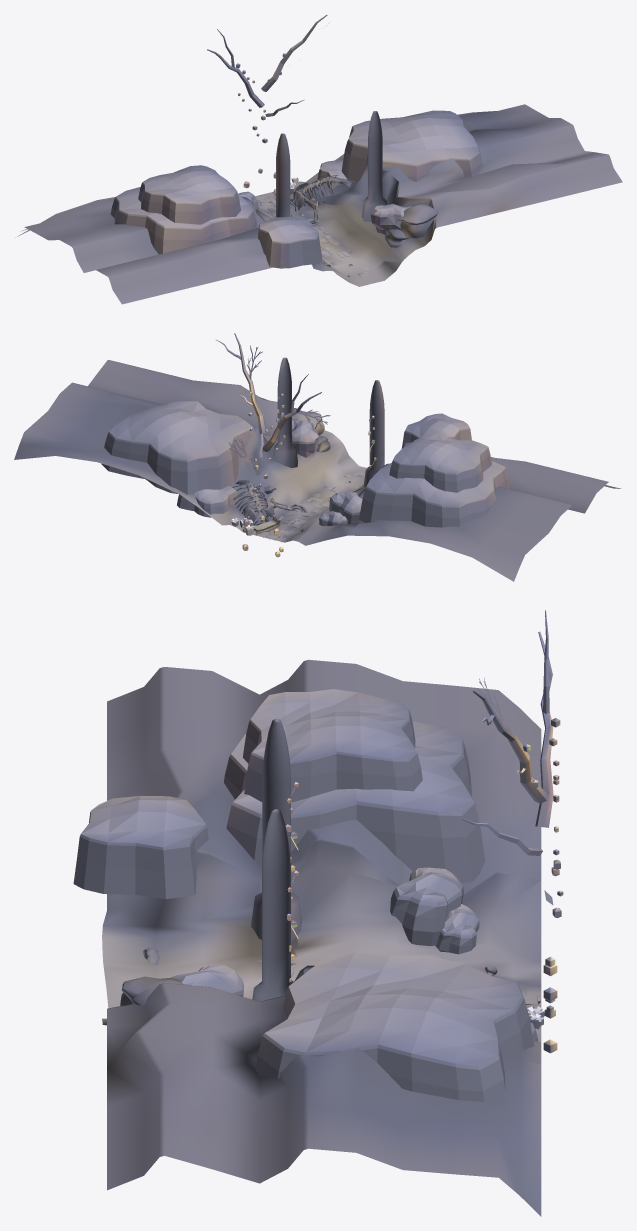
File: Arctic_Luge_Entrance.glb
3 renders of one model, top to bottom at view 1: azimuth 30°, elevation 25°; view 2: azimuth 150°, elevation 25°; view 3: azimuth 270°, elevation 25°, orthographic. The views are drawn at different scales.
Visible parts, largest first — view 1: Arctic_Luge_Entrance.001, Arctic_Luge_MediumIceRock_prop, Arctic_Luge_MediumIceRock_prop (2), Arctic_Luge_MediumIceRock_prop (1), Arctic_Luge_SmallIceRock_prop, Arctic_Luge_SmalRock_prop (2), Arctic_BirchA_branchesBottom_holiday, Arctic_Luge_MediumIceRock_prop (3), Arctic_BirchA_branchesTop_holiday; view 2: Arctic_Luge_Entrance.001, Arctic_Luge_MediumIceRock_prop, Arctic_Luge_MediumIceRock_prop (1), Arctic_Luge_MediumIceRock_prop (2), Arctic_Luge_SmallIceRock_prop, Arctic_Luge_MediumIceRock_prop (3), Arctic_BirchA_branchesBottom_holiday, Arctic_Luge_SmalRock_prop (2), Arctic_Luge_SmalRock_prop, Arctic_BirchA_branchesTop_holiday; view 3: Arctic_Luge_Entrance.001, Arctic_Luge_MediumIceRock_prop, Arctic_Luge_MediumIceRock_prop (1), Arctic_Luge_MediumIceRock_prop (2), Arctic_Luge_SmallIceRock_prop, Arctic_Luge_SmalRock_prop, Arctic_BirchA_branchesBottom_holiday, Arctic_Luge_SmalRock_prop (1), Arctic_BirchA_branchesTop_holiday, Arctic_Luge_SmalRock_prop (2).
Boxes of the visible parts, x1,y1,x2,y2 form: Arctic_Luge_Entrance.001: (15,104,622,304); Arctic_Luge_MediumIceRock_prop: (341,110,482,182); Arctic_Luge_MediumIceRock_prop (2): (138,165,241,224); Arctic_Luge_MediumIceRock_prop (1): (110,187,257,254); Arctic_Luge_SmallIceRock_prop: (258,216,321,268); Arctic_Luge_SmalRock_prop (2): (370,204,412,235); Arctic_BirchA_branchesBottom_holiday: (207,29,304,116); Arctic_Luge_MediumIceRock_prop (3): (317,160,346,188); Arctic_BirchA_branchesTop_holiday: (261,15,327,91); Arctic_Luge_Entrance.001: (14,357,621,581); Arctic_Luge_MediumIceRock_prop: (101,401,254,494); Arctic_Luge_MediumIceRock_prop (1): (359,461,509,527); Arctic_Luge_MediumIceRock_prop (2): (389,433,491,492); Arctic_Luge_SmallIceRock_prop: (402,413,471,446); Arctic_Luge_MediumIceRock_prop (3): (177,486,238,517); Arctic_BirchA_branchesBottom_holiday: (228,374,330,494); Arctic_Luge_SmalRock_prop (2): (292,420,318,457); Arctic_Luge_SmalRock_prop: (329,492,362,523); Arctic_BirchA_branchesTop_holiday: (215,333,266,433); Arctic_Luge_Entrance.001: (102,659,541,1216); Arctic_Luge_MediumIceRock_prop: (255,952,534,1101); Arctic_Luge_MediumIceRock_prop (1): (223,721,485,882); Arctic_Luge_MediumIceRock_prop (2): (242,689,422,802); Arctic_Luge_SmallIceRock_prop: (73,796,208,899); Arctic_Luge_SmalRock_prop: (390,867,463,945); Arctic_BirchA_branchesBottom_holiday: (461,610,553,904); Arctic_Luge_SmalRock_prop (1): (435,904,479,954); Arctic_BirchA_branchesTop_holiday: (472,678,548,803); Arctic_Luge_SmalRock_prop (2): (170,964,243,996).
Size of what is drawn, in the model's own units: 25.98 by 9.74 by 11.
